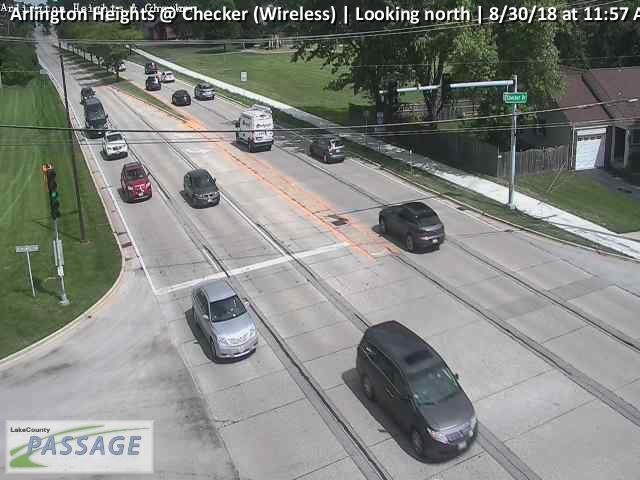SUV: (355, 319, 478, 461), (84, 96, 108, 126)
Sedan: (191, 279, 259, 359), (378, 201, 445, 253), (182, 168, 220, 206), (120, 161, 152, 203), (309, 134, 345, 163), (101, 133, 128, 158), (171, 89, 191, 105), (194, 84, 215, 99), (145, 76, 161, 89), (161, 70, 176, 82), (145, 63, 159, 75)
Truck: (232, 109, 273, 151)
